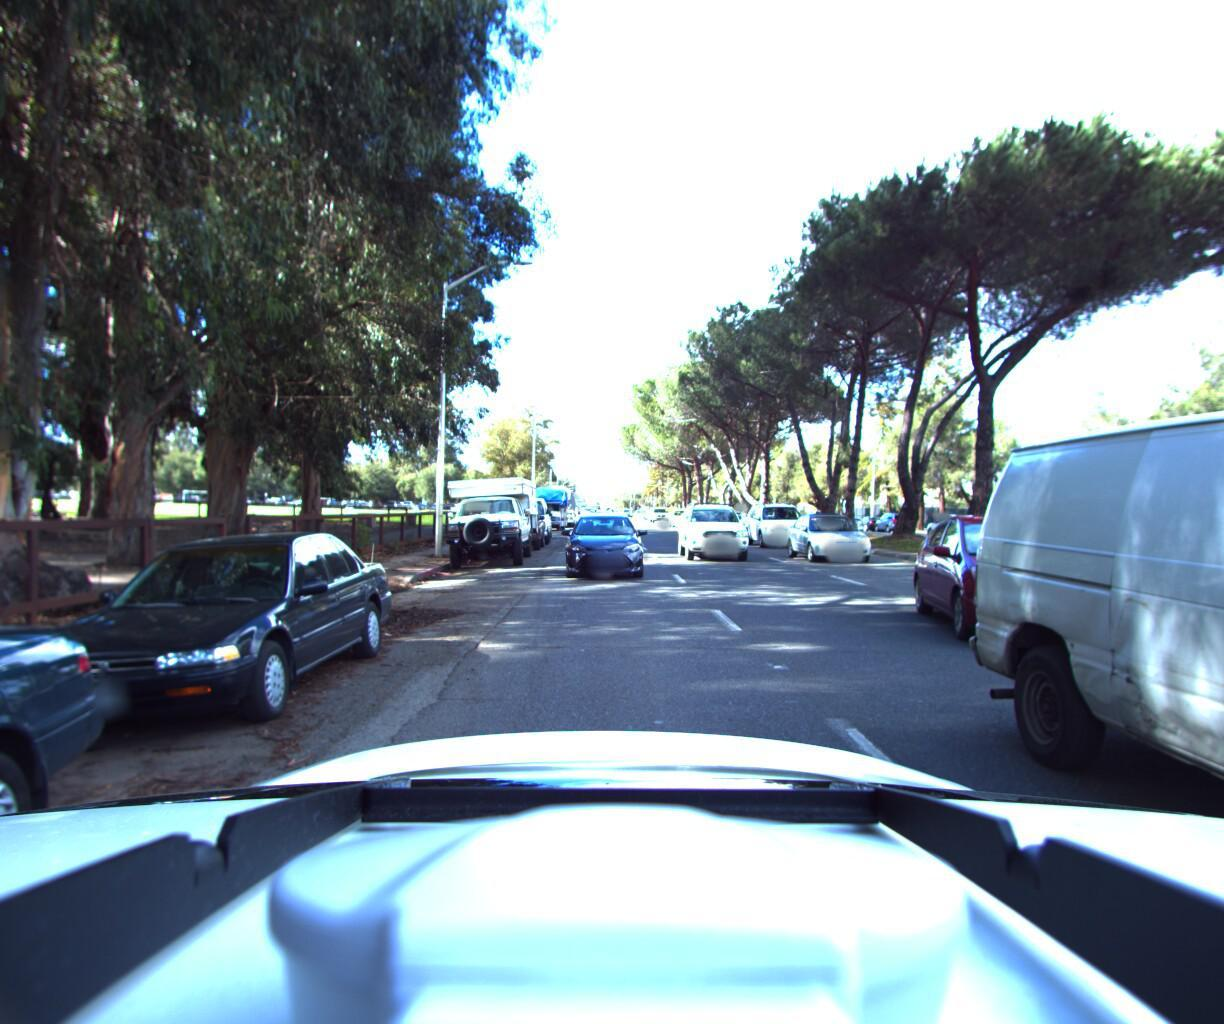car: (902, 496, 1165, 677), (561, 509, 647, 587), (786, 513, 882, 570), (678, 502, 756, 569), (742, 503, 819, 554), (497, 497, 555, 552), (490, 504, 547, 558), (920, 510, 988, 545), (589, 508, 621, 539), (851, 513, 888, 534)
other_vehicle: (426, 472, 541, 575), (525, 488, 573, 536), (538, 490, 580, 532)
